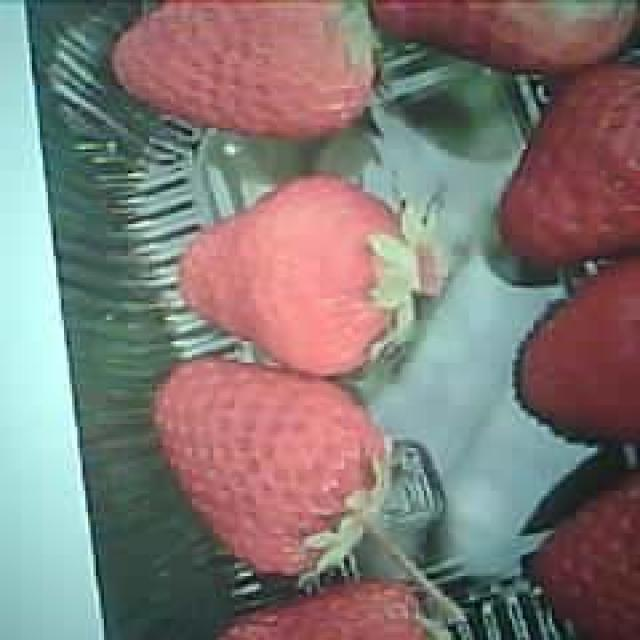Strawberry: (154, 361, 384, 583), (182, 178, 414, 376), (116, 0, 372, 141), (496, 62, 640, 261), (513, 262, 640, 446), (374, 0, 640, 77), (533, 470, 640, 636), (219, 580, 430, 640)
